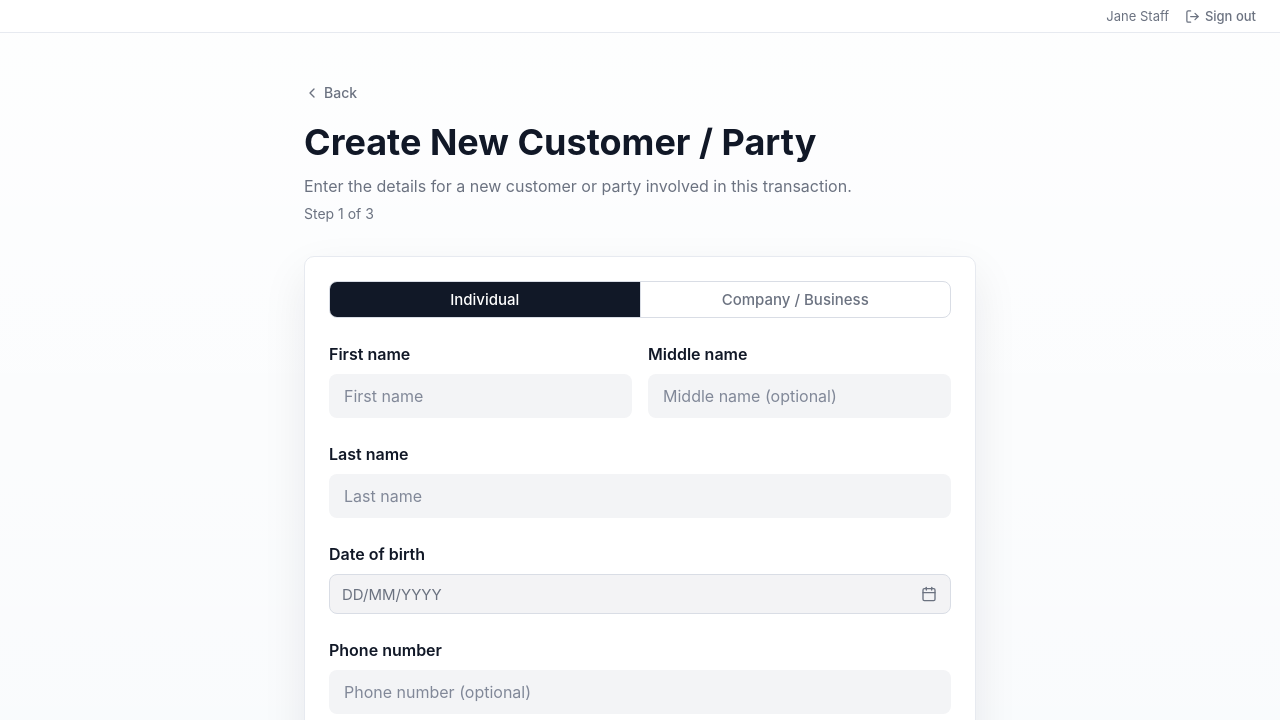
Test: CreateCustomerPage › company: shows a validation error when registered entity name is empty
Click the button "Company / Business". click: (795, 300)
box: [640,282,950,317]
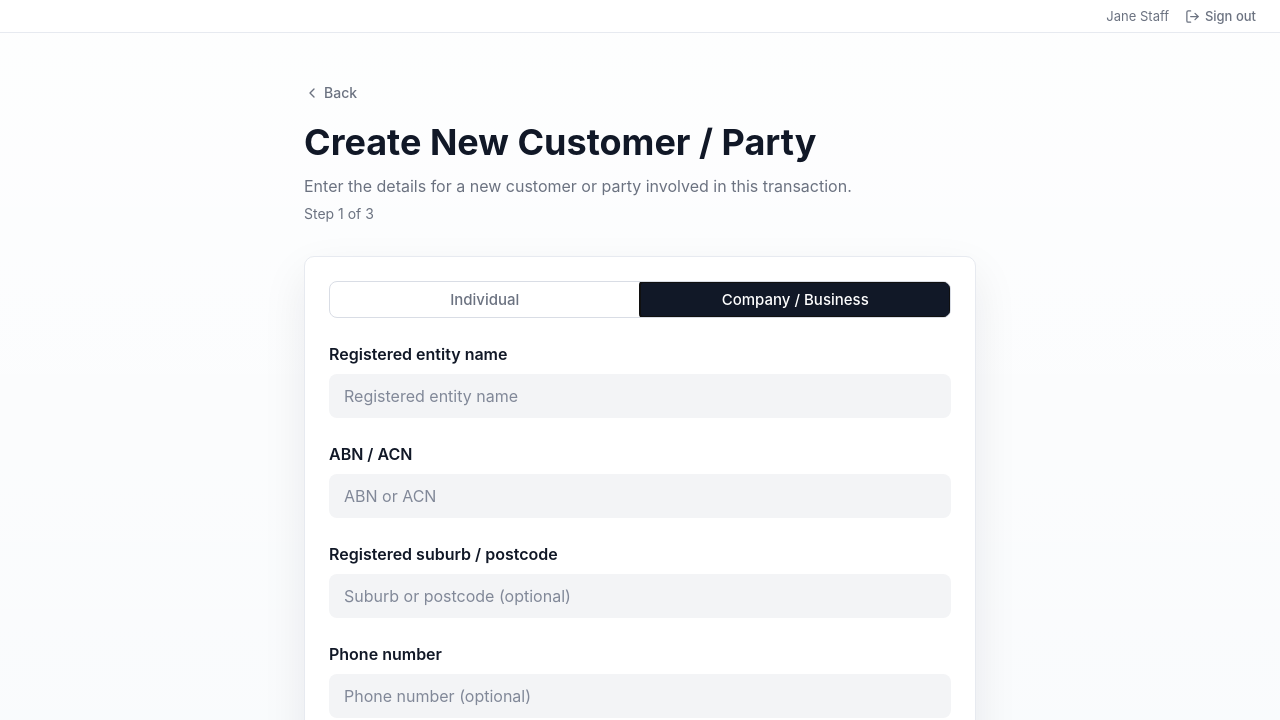
Type "12345678901" into the field labelled "ABN / ACN". click: (640, 496)
box: [329,474,951,518]
(page scrolled)
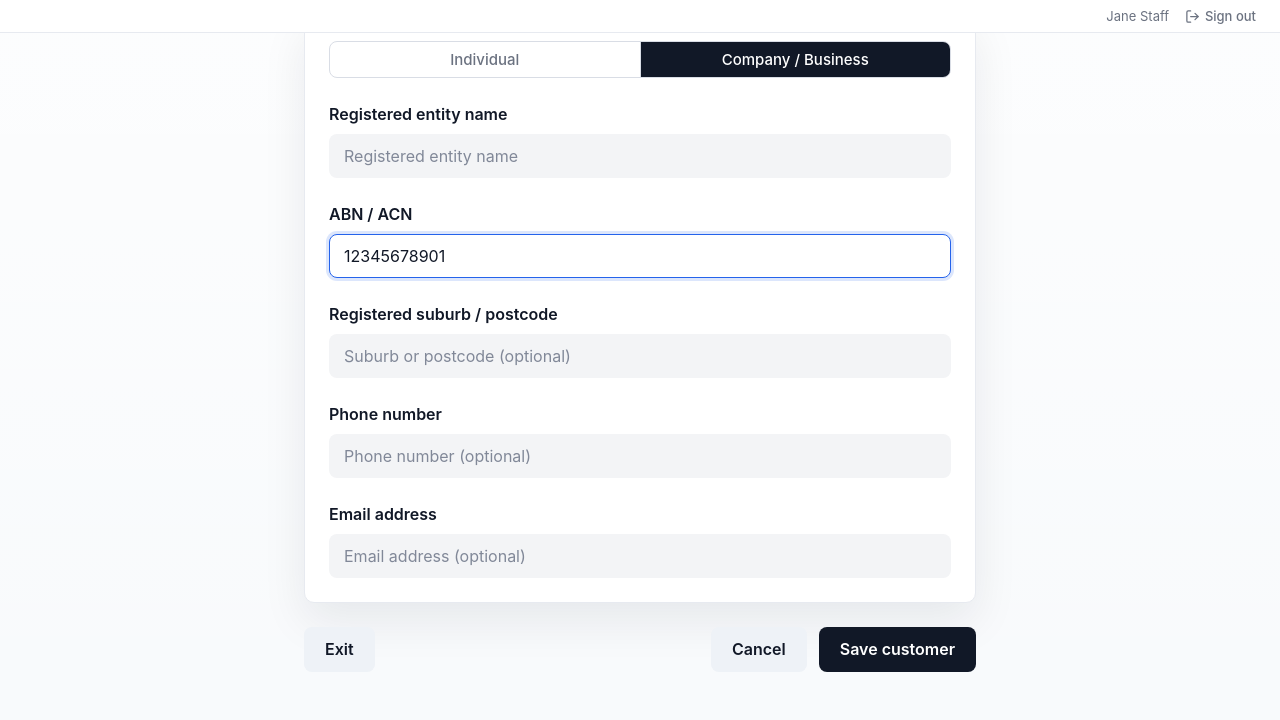
Click the button "Save customer". click: (897, 650)
box: [819,627,976,672]
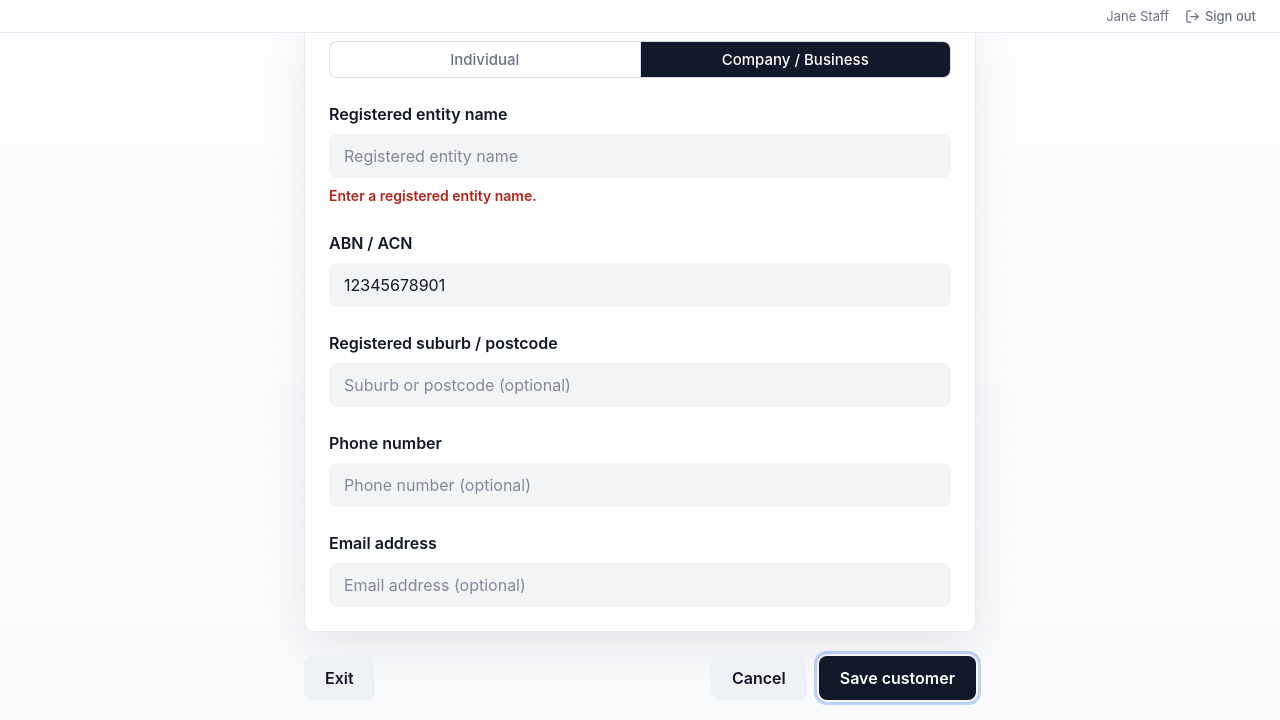
Expected: the text "Enter a registered entity name." is shown, [329,187,537,204]
